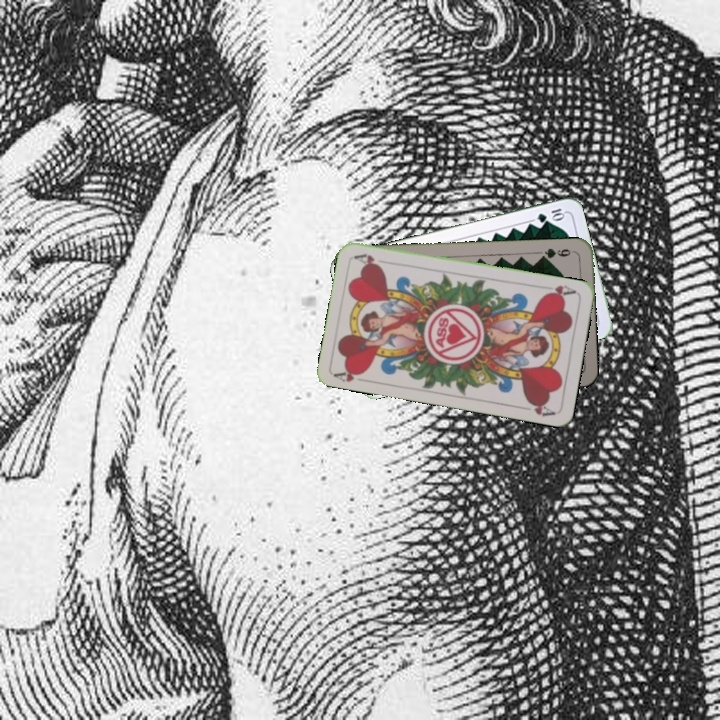G10: (533, 204, 567, 225)
G9: (537, 244, 577, 262)
HA: (331, 364, 371, 384), (540, 281, 579, 300)
